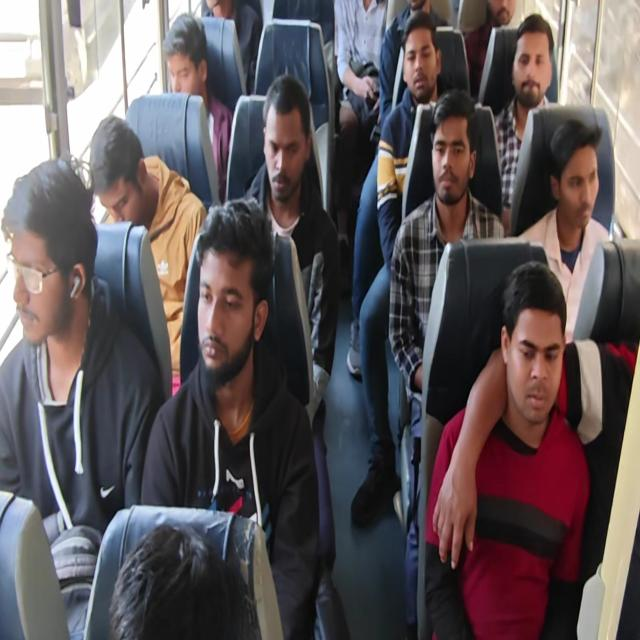person: (1, 138, 104, 336), (111, 514, 263, 640), (501, 245, 586, 435), (202, 196, 270, 392), (82, 111, 166, 240), (545, 116, 610, 242), (258, 68, 308, 202), (429, 85, 473, 212), (161, 7, 212, 112), (398, 17, 446, 103), (514, 16, 558, 109), (491, 0, 514, 27), (202, 1, 233, 18), (408, 0, 426, 13)
